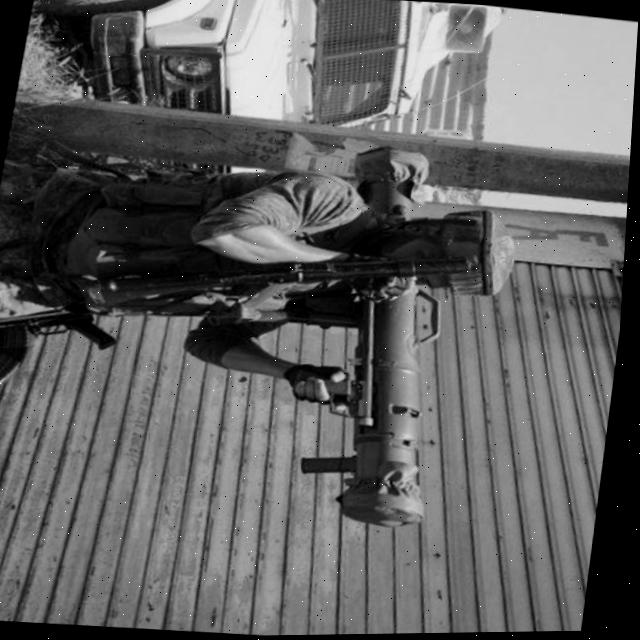rocket: (293, 137, 492, 534)
